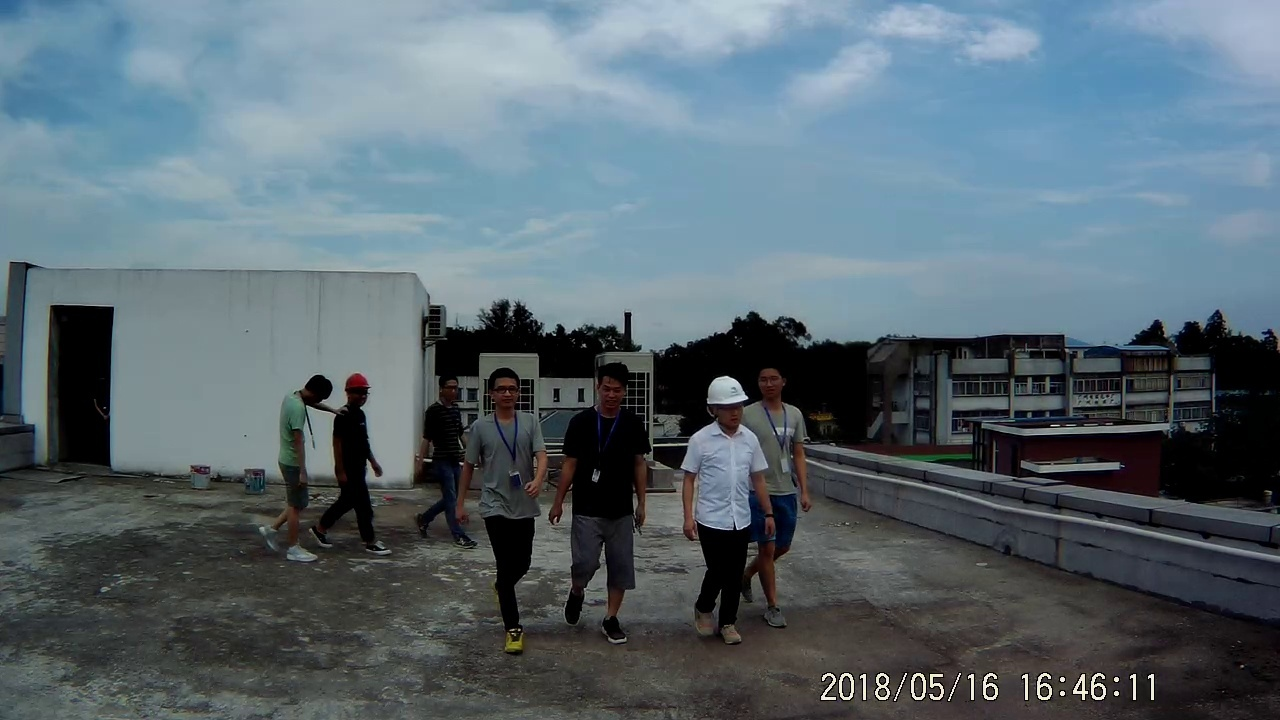none: (593, 358, 630, 414), (482, 366, 523, 416), (752, 358, 787, 404), (300, 369, 333, 410), (433, 369, 461, 404)
red: (340, 370, 373, 412)
white: (701, 371, 749, 435)
